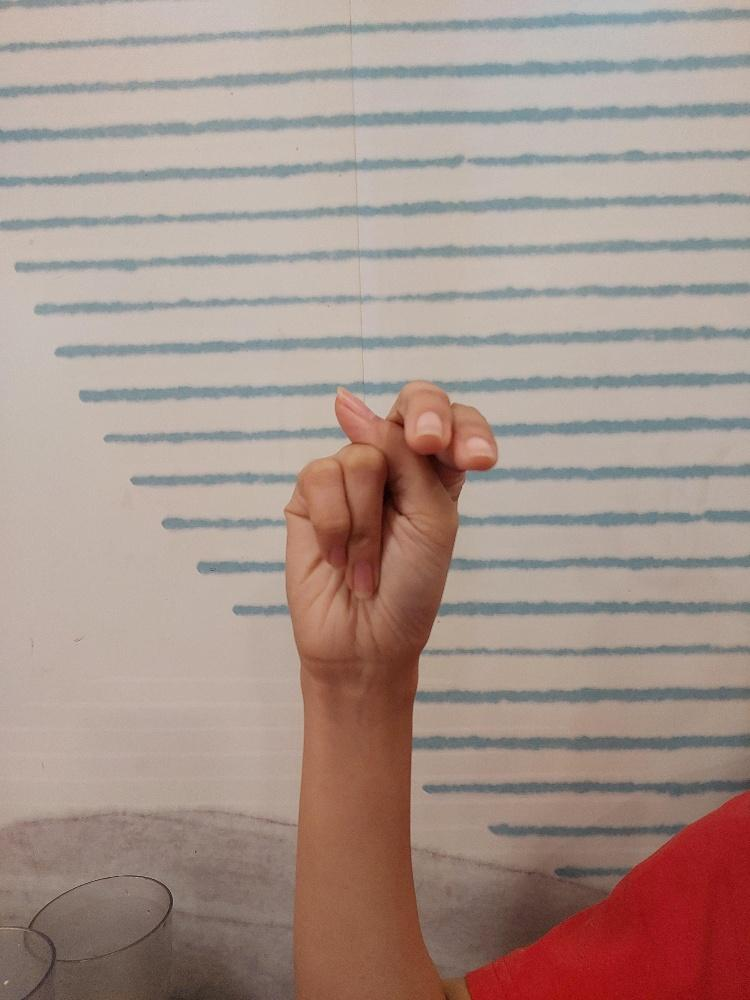n: (282, 375, 500, 668)
